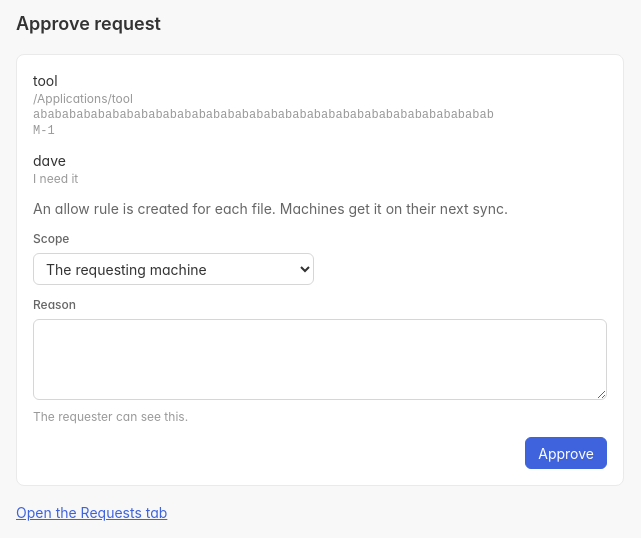
it: DecideLinkPage › says so when the link was used or has expired
Click the button "Approve".
click(566, 453)  # box x1=525 y1=437 x2=607 y2=469
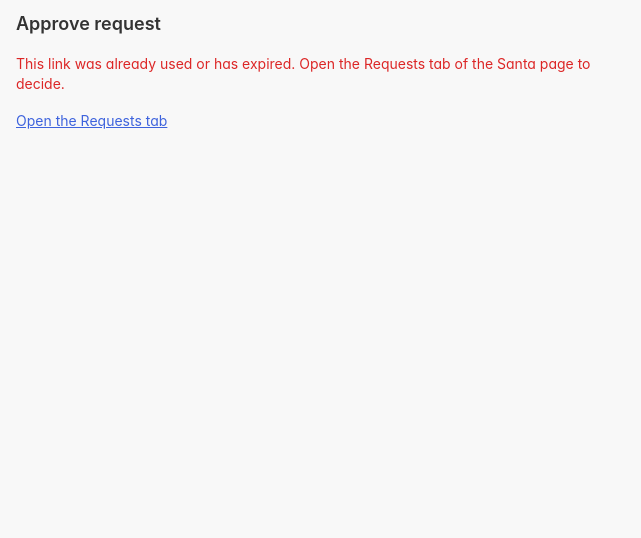
expect the message shows "already used or has expired": met, box x1=16 y1=55 x2=590 y2=92
